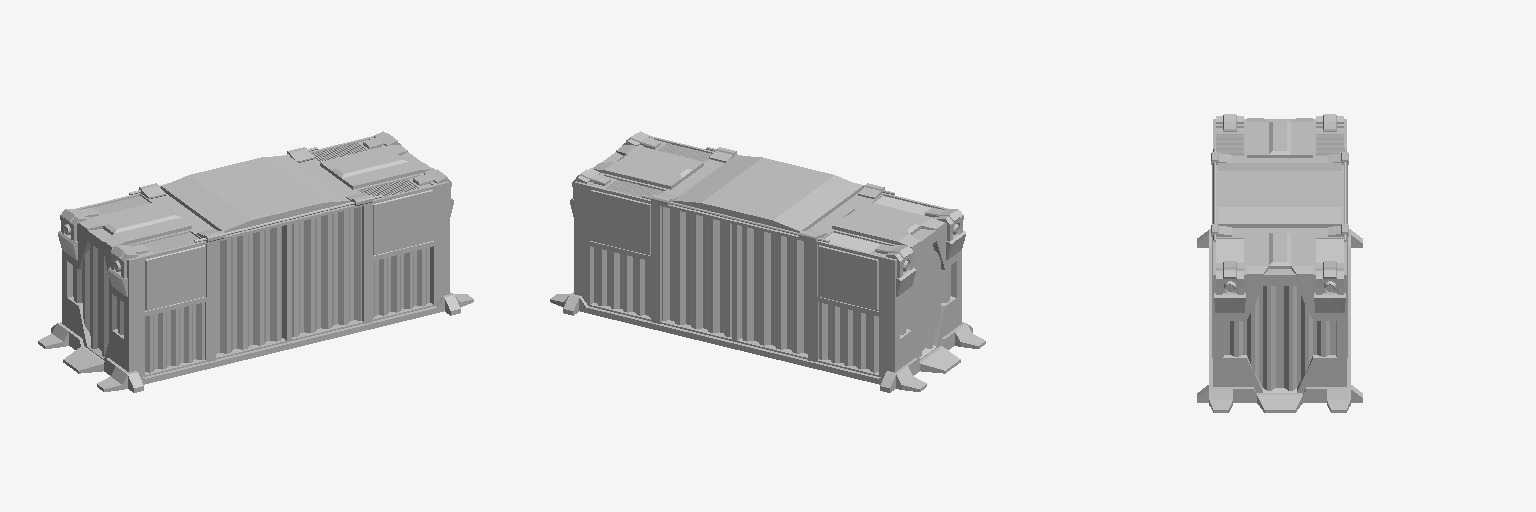
Rendered from LargeBoxcar.obj.
3 renders of one model, left to right at view 1: azimuth 30°, elevation 25°; view 2: azimuth 150°, elevation 25°; view 3: azimuth 270°, elevation 25°, orthographic.
Visible parts, largest first — view 1: LargeBoxcar_Mesh.038; view 2: LargeBoxcar_Mesh.038; view 3: LargeBoxcar_Mesh.038.
Part boxes in pixels (left/top/right/bottom): LargeBoxcar_Mesh.038: left=38, top=131, right=473, bottom=392; LargeBoxcar_Mesh.038: left=550, top=131, right=985, bottom=392; LargeBoxcar_Mesh.038: left=1197, top=114, right=1362, bottom=412.
Size of the model in its own units: 9.22 by 3.19 by 3.57.